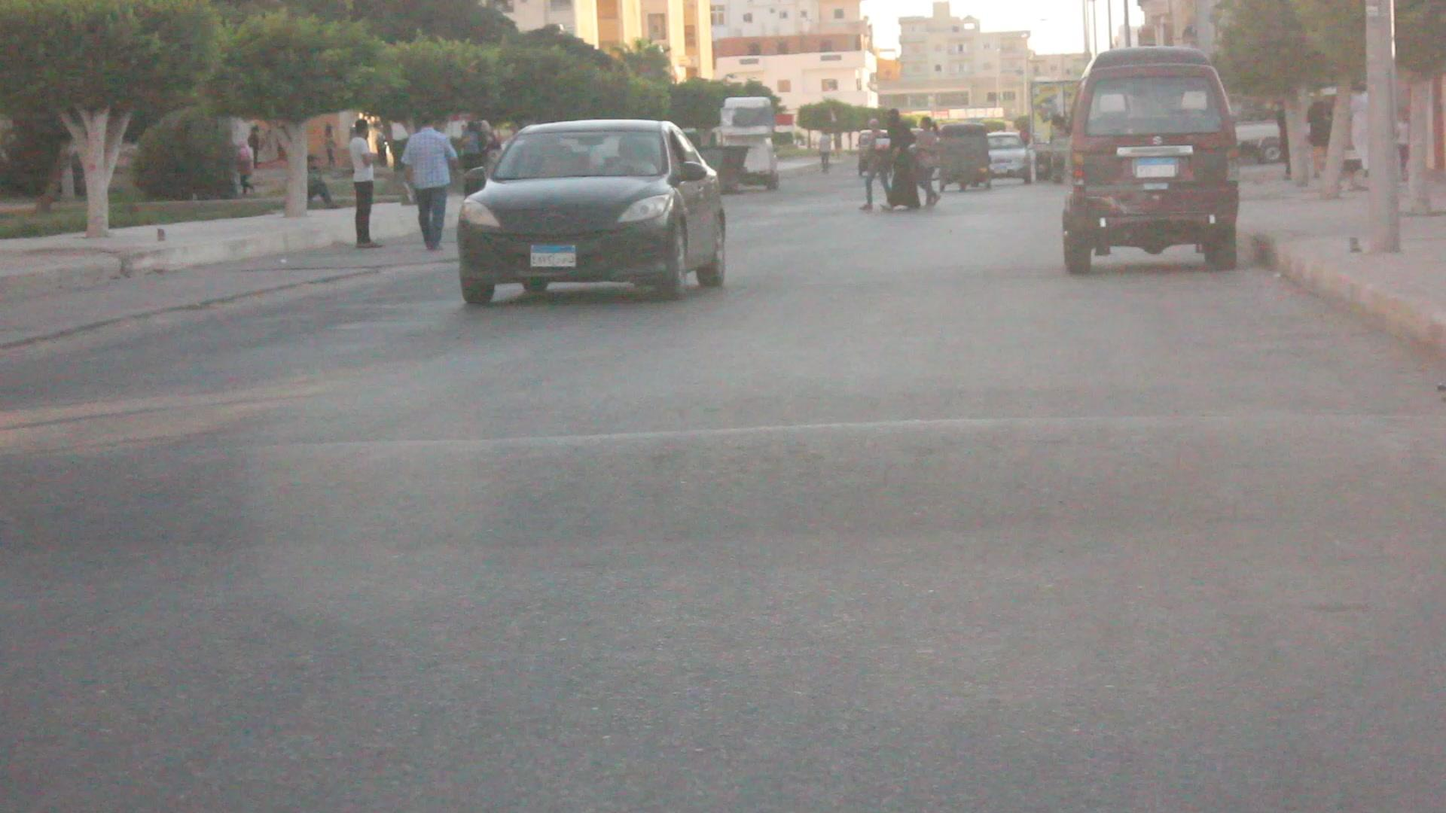Bump: (0, 416, 1446, 548)
